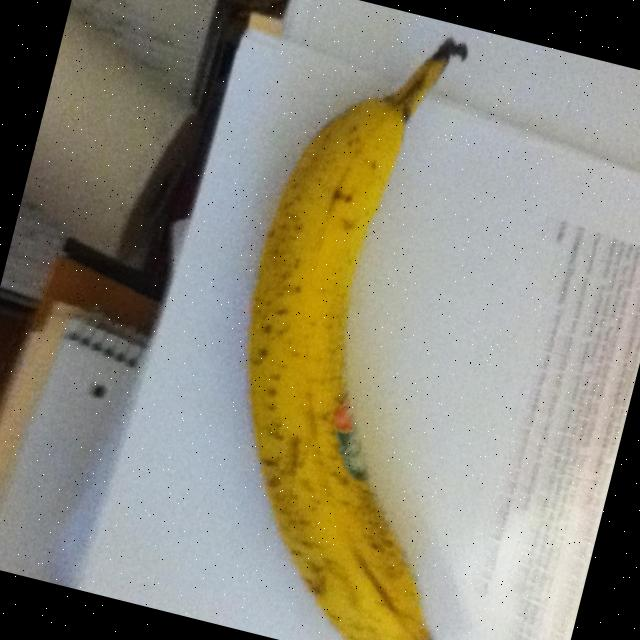banana: (242, 39, 462, 640)
